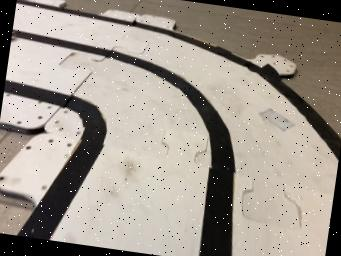street: (4, 0, 341, 256), (4, 0, 341, 256), (4, 0, 341, 256), (4, 0, 341, 256), (4, 0, 341, 256), (4, 0, 341, 256)
